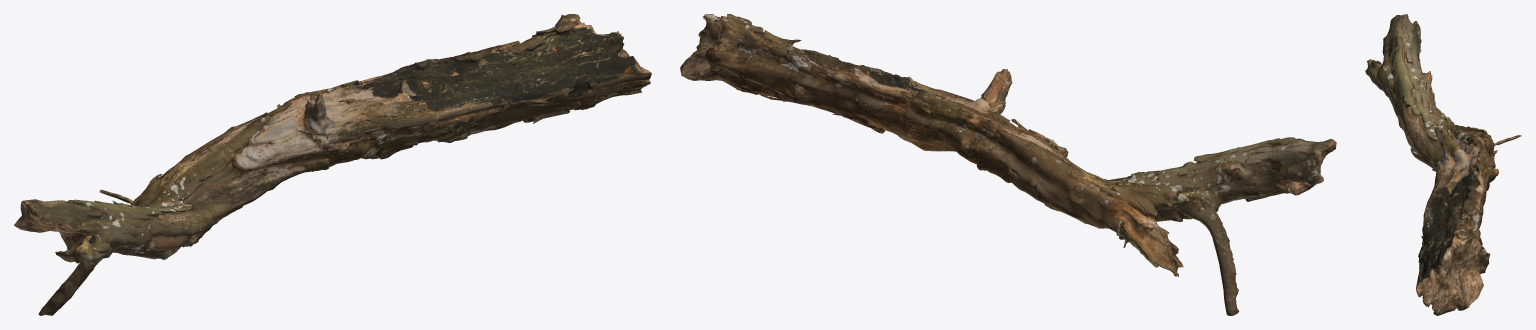
The model's file is dead_tree_trunk_02.glb.
3 views of the same model, side by side, from view 1: azimuth 30°, elevation 25°; view 2: azimuth 150°, elevation 25°; view 3: azimuth 270°, elevation 25° (orthographic). The views are drawn at different scales.
Parts seen in each view (by area): view 1: dead_tree_trunk_02; view 2: dead_tree_trunk_02; view 3: dead_tree_trunk_02.
Boxes of the visible parts, x1,y1,x2,y2 form: dead_tree_trunk_02: (14,14,651,315); dead_tree_trunk_02: (680,14,1336,315); dead_tree_trunk_02: (1365,14,1521,315).
Bounding box in the file's own units: 4.05 × 1.06 × 1.06.
Materials: 1 (1 with a texture image).
